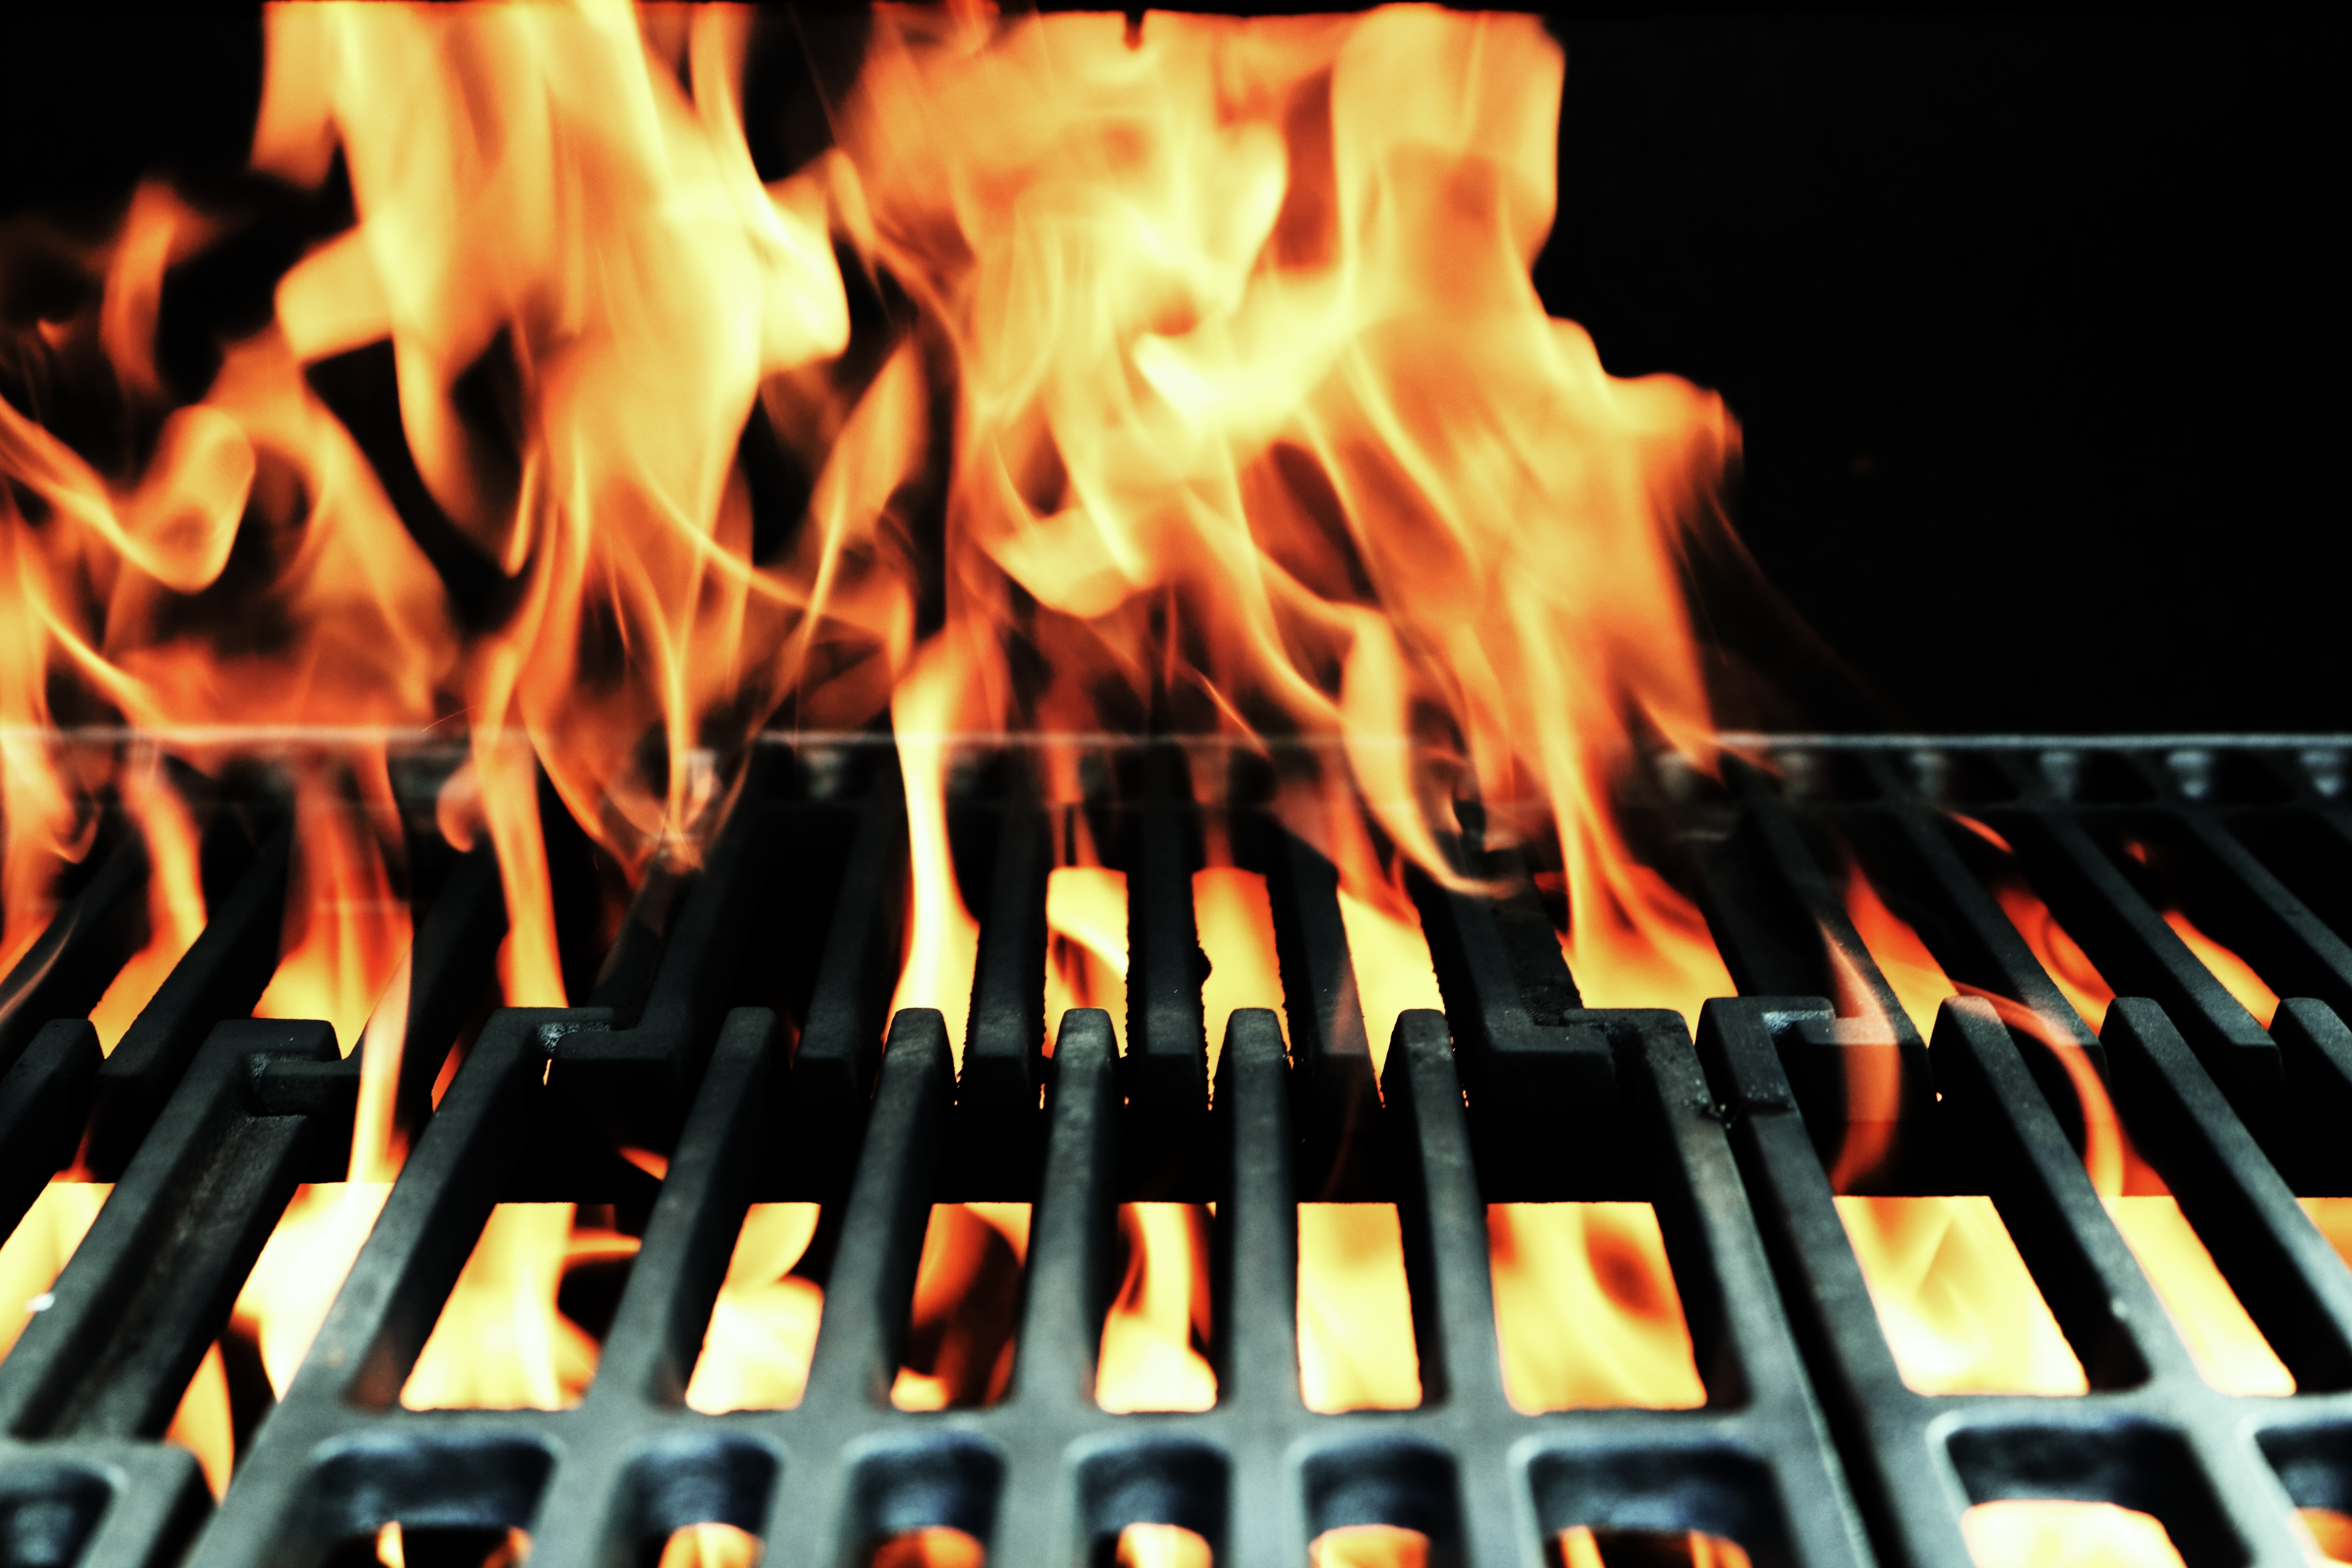fire: (30, 3, 1796, 1165), (1684, 1522, 1752, 1568)
